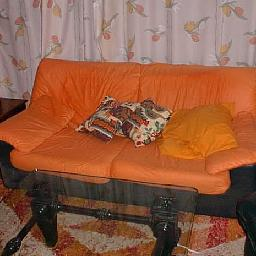Cama: (10, 51, 255, 189)
